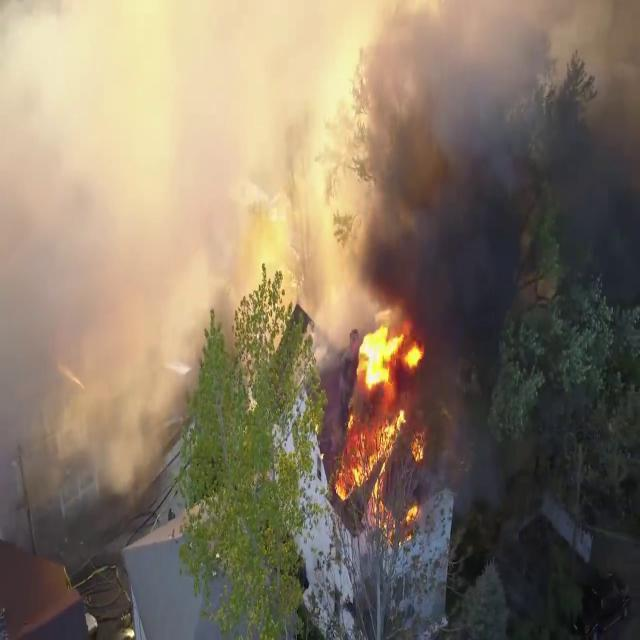Fire: (340, 314, 430, 522)
Smoke: (0, 0, 316, 508), (342, 0, 640, 313)
